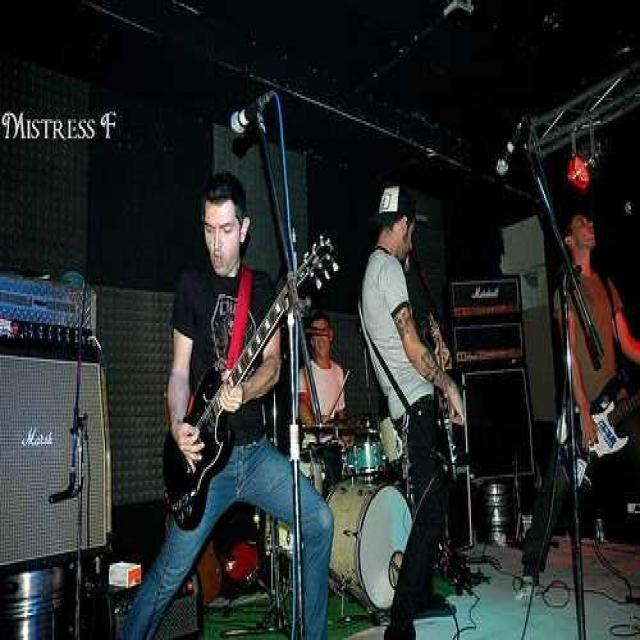microphone: (231, 89, 274, 136), (496, 126, 526, 182)
